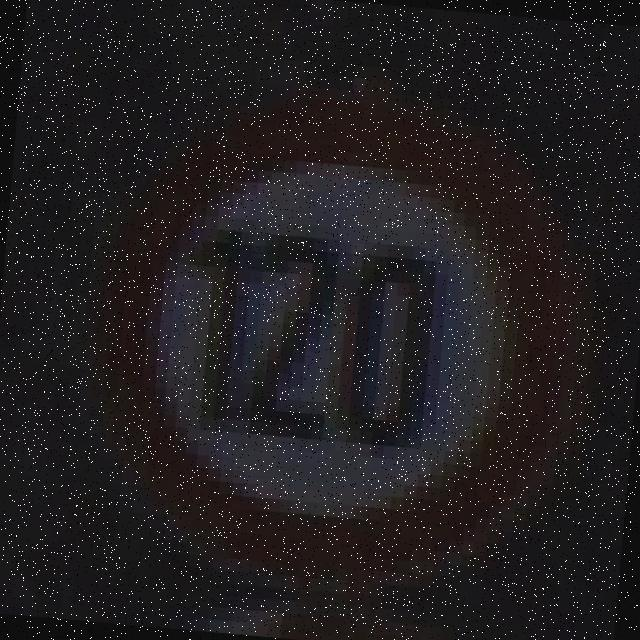Ograniczenie predkosci do 120: (90, 82, 574, 592)
